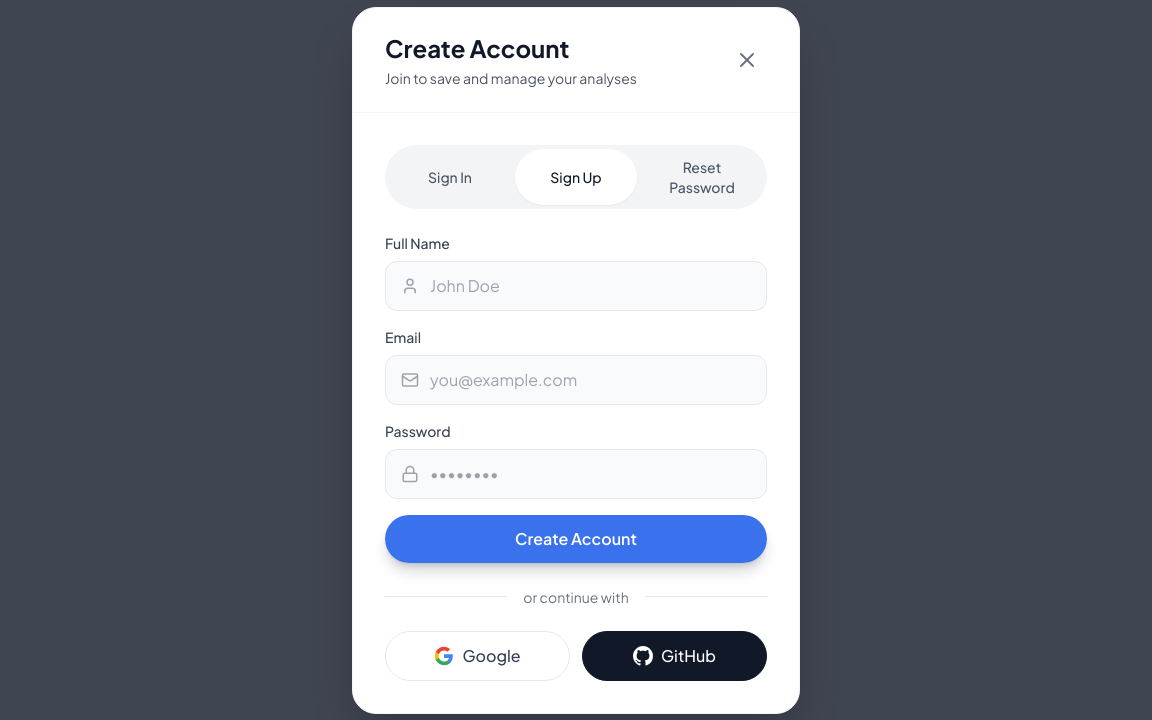
Test: AuthModal › Sign Up form › should show success message on successful sign up
Type "Test User" into the field with placeholder "John Doe" at (576, 286), box [385,260,767,310]
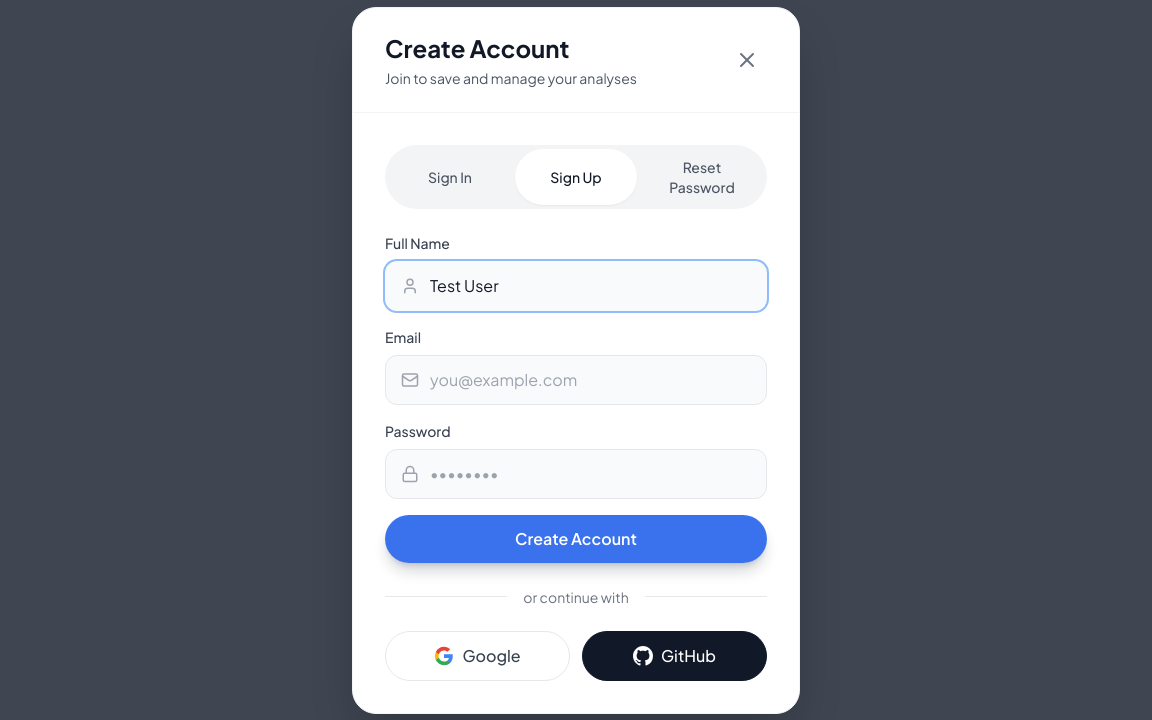
Type "test@example.com" into the field with placeholder "you@example.com" at (576, 380), box [385,354,767,404]
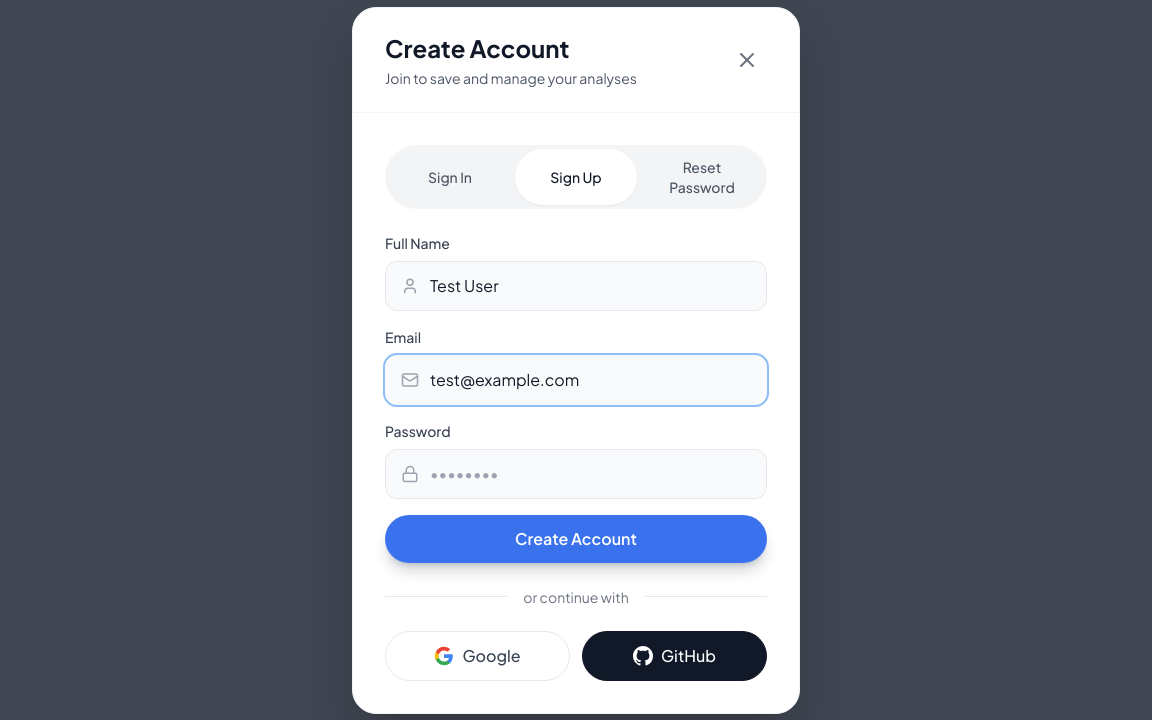
Type "password123" into the password field with placeholder "••••••••" at (576, 474), box [385,448,767,498]
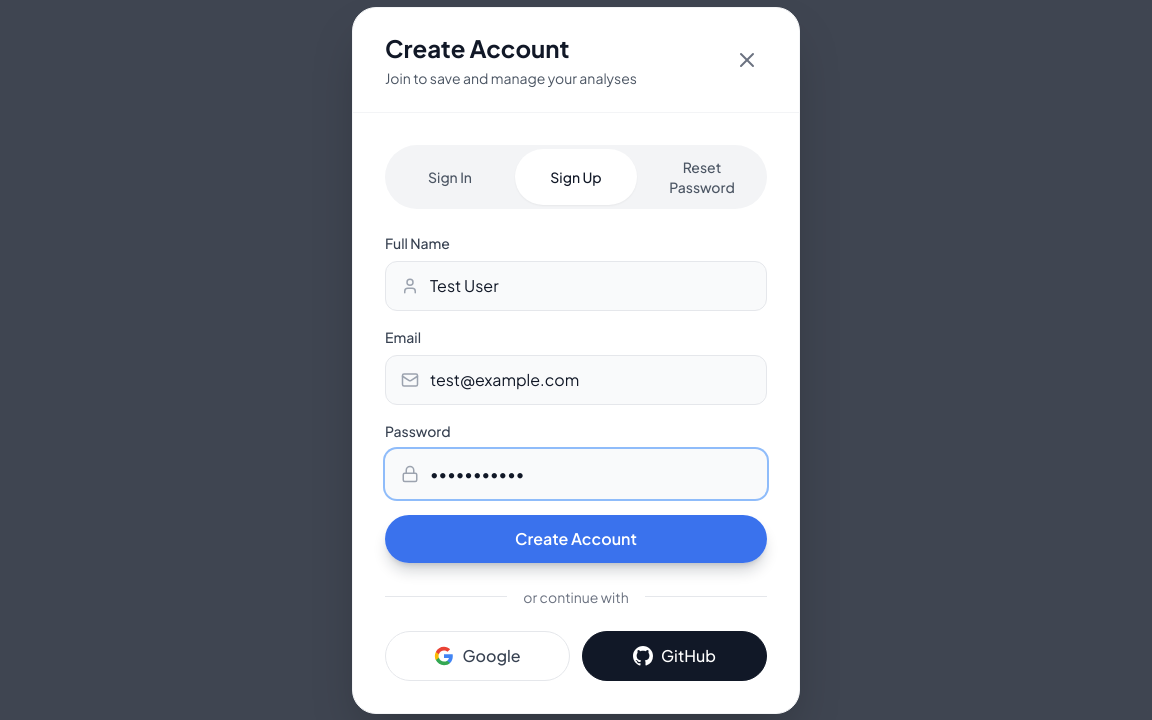
Click the button "Create Account" at (576, 538), box [385,514,767,562]
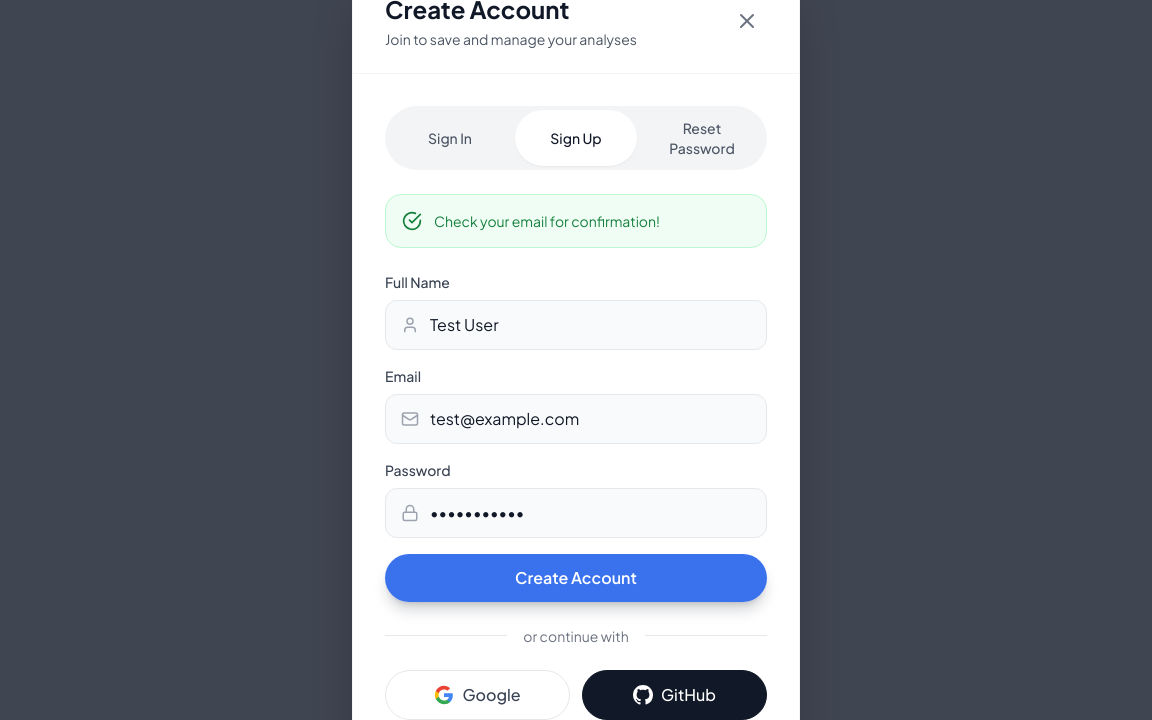
Expected: the text "Check your email for confirmation!" is shown, [434,210,660,230]
